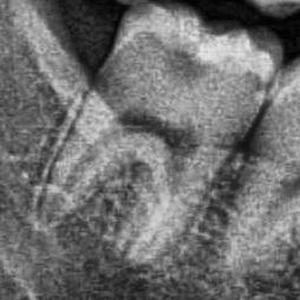tooth: (33, 2, 274, 266)
